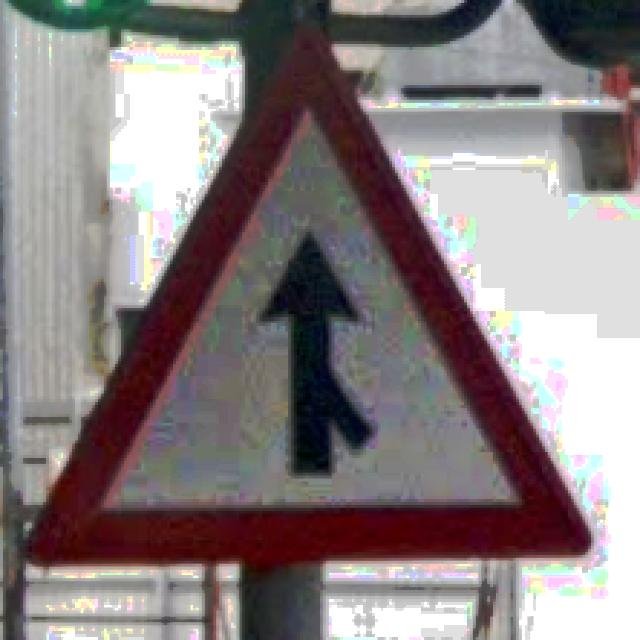rightmerge: (26, 31, 594, 566)
